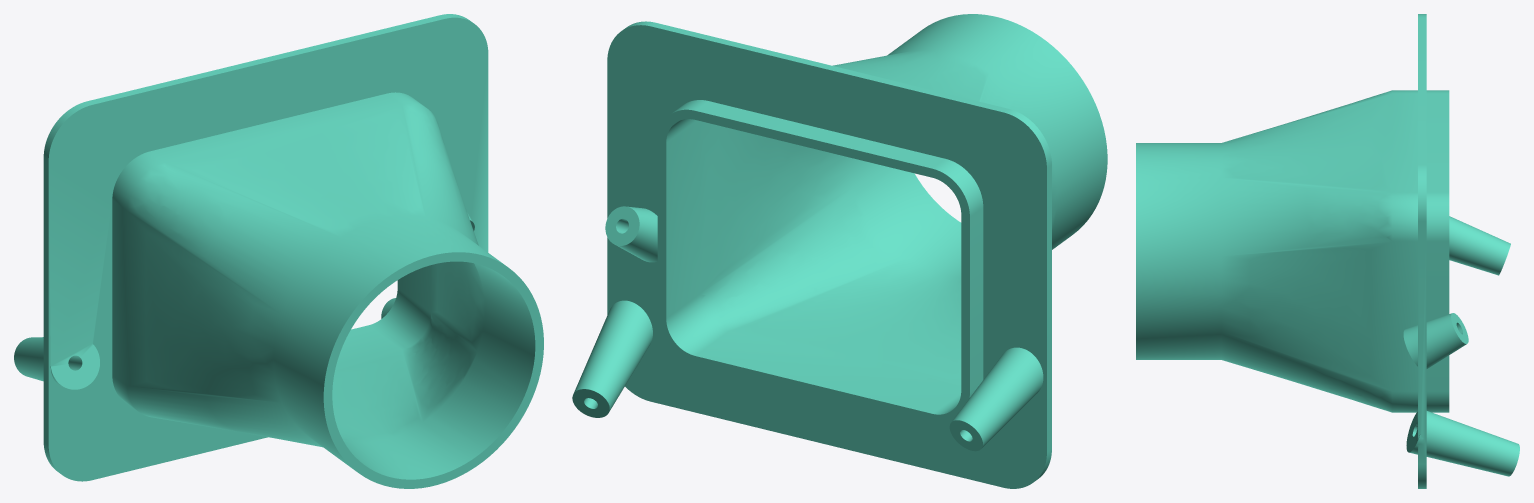
The picture shows the model from 3 angles, left to right: view 1: azimuth 30°, elevation 25°; view 2: azimuth 150°, elevation 25°; view 3: azimuth 270°, elevation 25°; orthographic projection. The views are drawn at different scales.
Parts seen in each view (by area): view 1: Option_R005-A-3_concept; view 2: Option_R005-A-3_concept; view 3: Option_R005-A-3_concept.
Part boxes in pixels (left/top/right/bottom): Option_R005-A-3_concept: left=14, top=14, right=543, bottom=488; Option_R005-A-3_concept: left=572, top=14, right=1107, bottom=488; Option_R005-A-3_concept: left=1136, top=14, right=1519, bottom=488.
Size of the model in its own units: 0.1524 by 0.124 by 0.1348.
